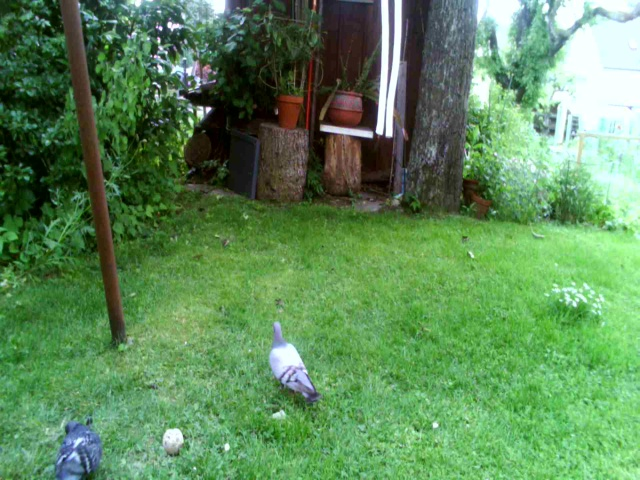Pigeon: (259, 312, 321, 411), (54, 410, 104, 480)
